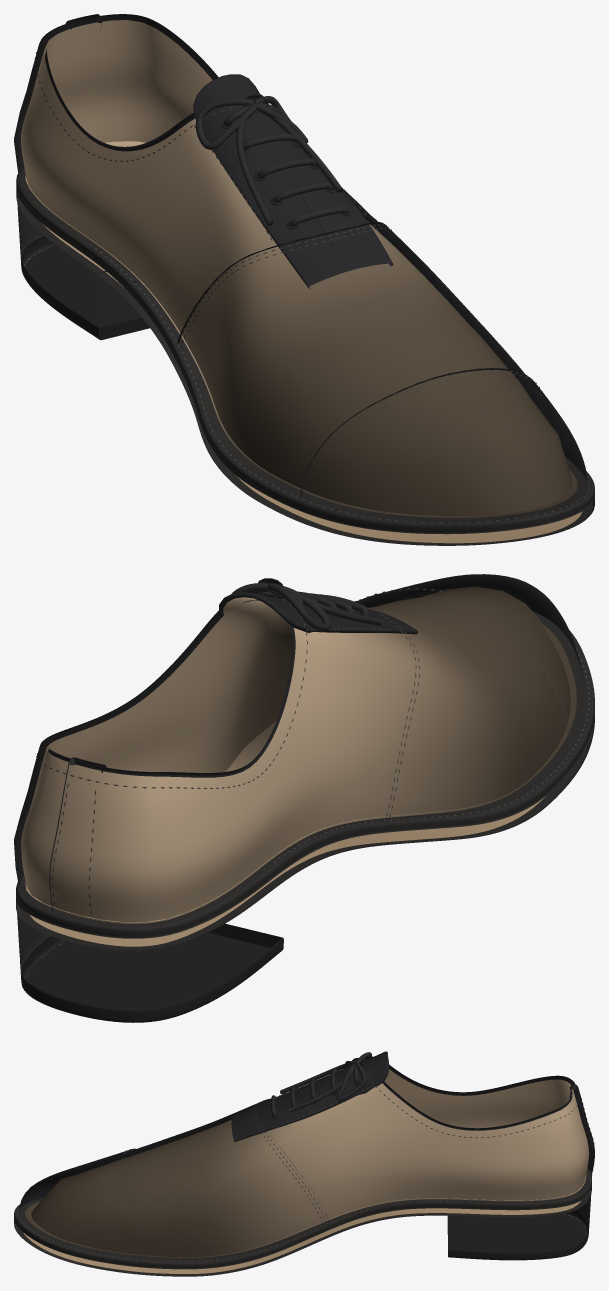
File: men_dress_a.glb
3 renders of one model, top to bottom at view 1: azimuth 30°, elevation 25°; view 2: azimuth 150°, elevation 25°; view 3: azimuth 270°, elevation 25°, orthographic. The views are drawn at different scales.
Parts seen in each view (by area): view 1: lining, leather, welt, lace, toplift, sole_edge, sole_bottom, heel, thread; view 2: lining, toplift, welt, leather, sole_edge, sole_bottom, lace, thread, heel; view 3: lining, leather, welt, toplift, sole_bottom, sole_edge, lace, thread.
Boxes of the visible parts, bbox=[...] form: lining: bbox=[21, 20, 577, 517]; leather: bbox=[14, 14, 587, 496]; welt: bbox=[16, 167, 594, 534]; lace: bbox=[195, 95, 347, 227]; toplift: bbox=[20, 236, 149, 340]; sole_edge: bbox=[16, 190, 594, 545]; sole_bottom: bbox=[43, 224, 582, 543]; heel: bbox=[17, 196, 141, 327]; thread: bbox=[35, 52, 548, 497]; lining: bbox=[21, 586, 576, 923]; toplift: bbox=[20, 923, 283, 1022]; welt: bbox=[16, 612, 594, 938]; leather: bbox=[14, 574, 584, 913]; sole_edge: bbox=[16, 714, 594, 950]; sole_bottom: bbox=[30, 796, 545, 946]; lace: bbox=[232, 578, 382, 631]; thread: bbox=[36, 588, 571, 914]; heel: bbox=[17, 904, 274, 980]; lining: bbox=[25, 1069, 589, 1258]; leather: bbox=[19, 1051, 594, 1221]; welt: bbox=[14, 1168, 591, 1269]; toplift: bbox=[447, 1210, 588, 1260]; sole_bottom: bbox=[24, 1201, 580, 1273]; sole_edge: bbox=[14, 1186, 591, 1276]; lace: bbox=[270, 1052, 371, 1115]; thread: bbox=[122, 1059, 594, 1259].
Size of the model in its own units: 101 by 102 by 299.
